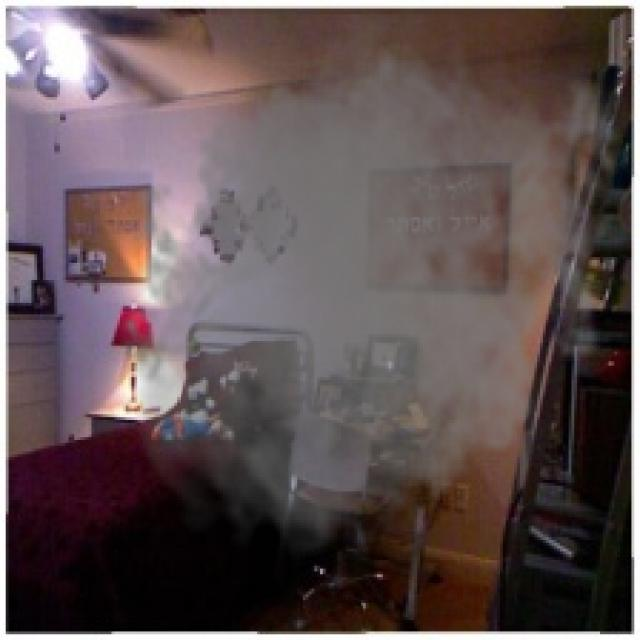smoke: (111, 14, 634, 577)
